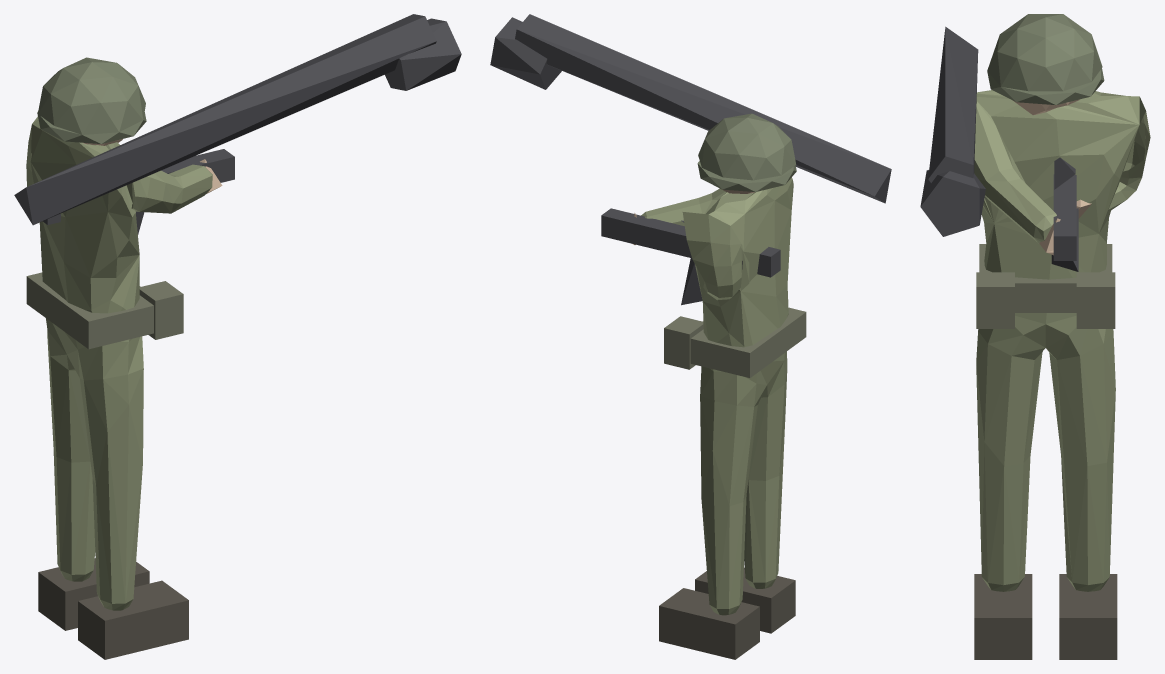
The model's file is at_infantry.lod1.glb.
3 views of the same model, side by side, from view 1: azimuth 30°, elevation 25°; view 2: azimuth 150°, elevation 25°; view 3: azimuth 270°, elevation 25° (orthographic). The views are drawn at different scales.
Bounding box in the file's own units: 1.37 × 1.77 × 0.5966.
